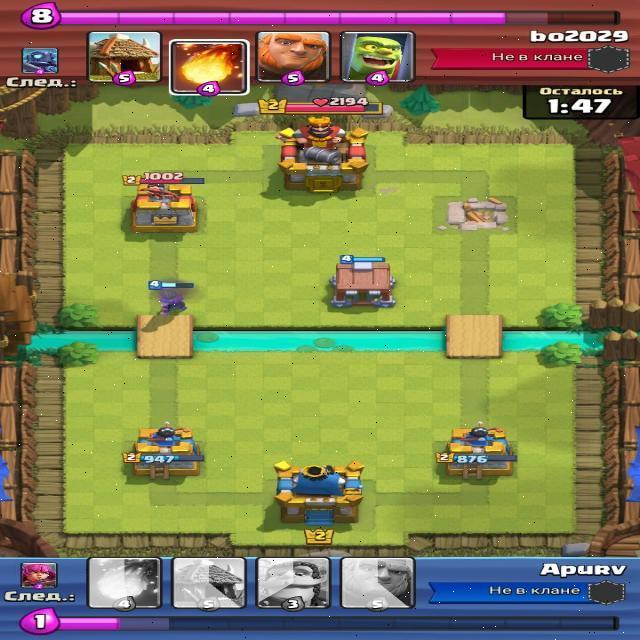EKingTower: (277, 115, 368, 191)
EnemyPrincessTower: (131, 183, 197, 232)
OGoblinCage: (330, 255, 394, 307)
OMusk: (154, 283, 193, 316)
OwnKingTower: (274, 463, 362, 525)
OwnPrincessTower: (436, 427, 516, 478), (125, 438, 203, 478)
TowerDown: (433, 197, 517, 235)
